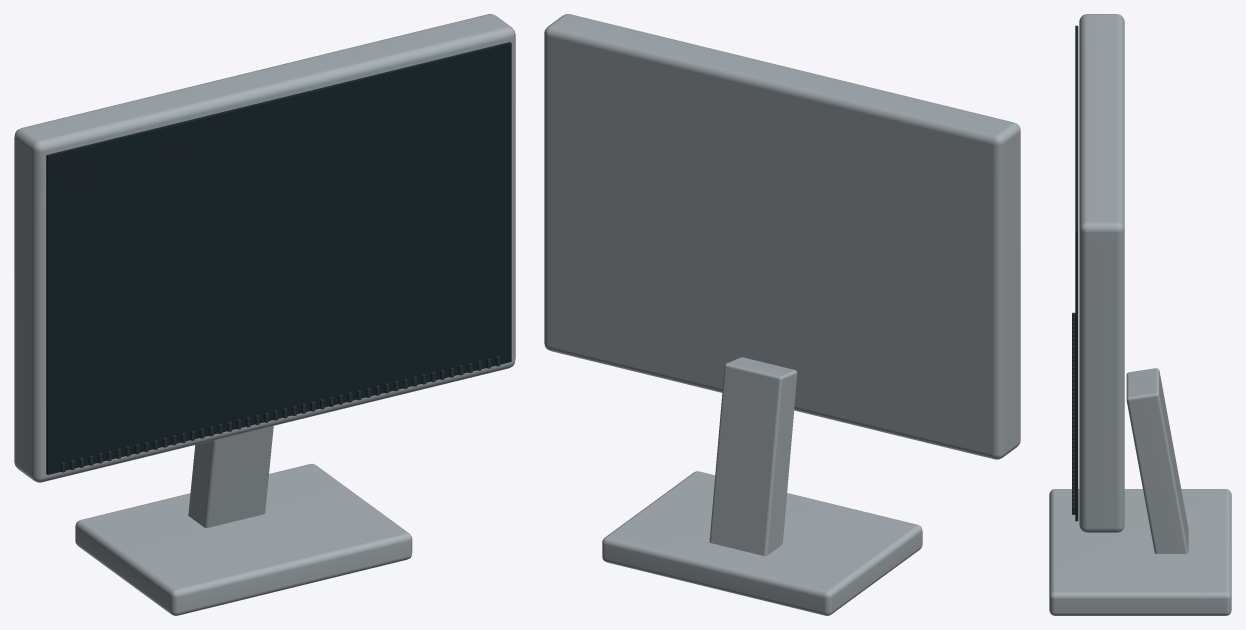
File: monitor.glb
The picture shows the model from 3 angles, left to right: view 1: azimuth 30°, elevation 25°; view 2: azimuth 150°, elevation 25°; view 3: azimuth 270°, elevation 25°; orthographic projection. The views are drawn at different scales.
Parts seen in each view (by area): view 1: Display glass, Computer foot, Grille rib; view 2: Computer foot; view 3: Computer foot, Display glass, Grille rib.
Part boxes in pixels (left/top/right/bottom): Display glass: left=46, top=42, right=511, bottom=474; Computer foot: left=14, top=14, right=515, bottom=615; Grille rib: left=61, top=356, right=500, bottom=472; Computer foot: left=544, top=14, right=1020, bottom=615; Computer foot: left=1049, top=14, right=1231, bottom=615; Display glass: left=1075, top=25, right=1078, bottom=521; Grille rib: left=1072, top=312, right=1075, bottom=514.
Size of the model in its own units: 0.5 by 0.486 by 0.18.
4 materials, 4 textured.
